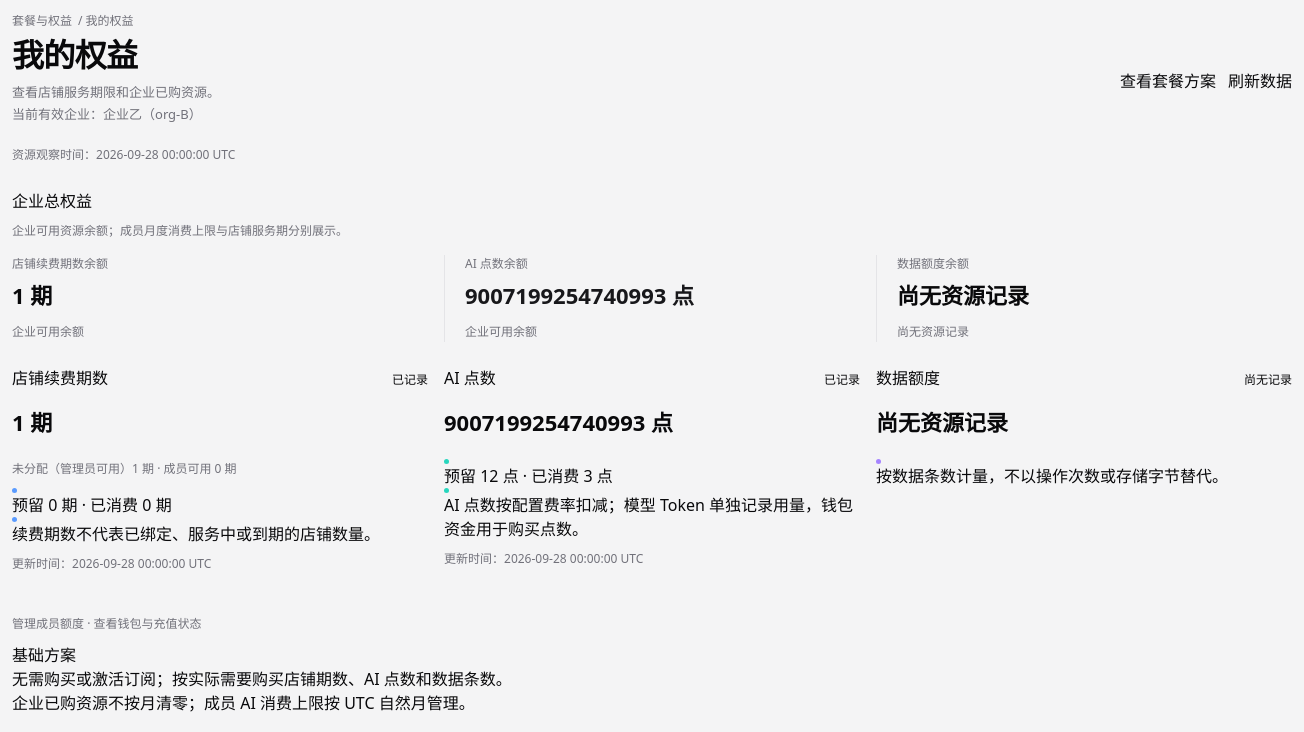
Test: hides prior success on refresh and displays safe PERMISSION_DENIED without fallback
Click the button "刷新数据": (1260, 81) [1228,69,1292,93]
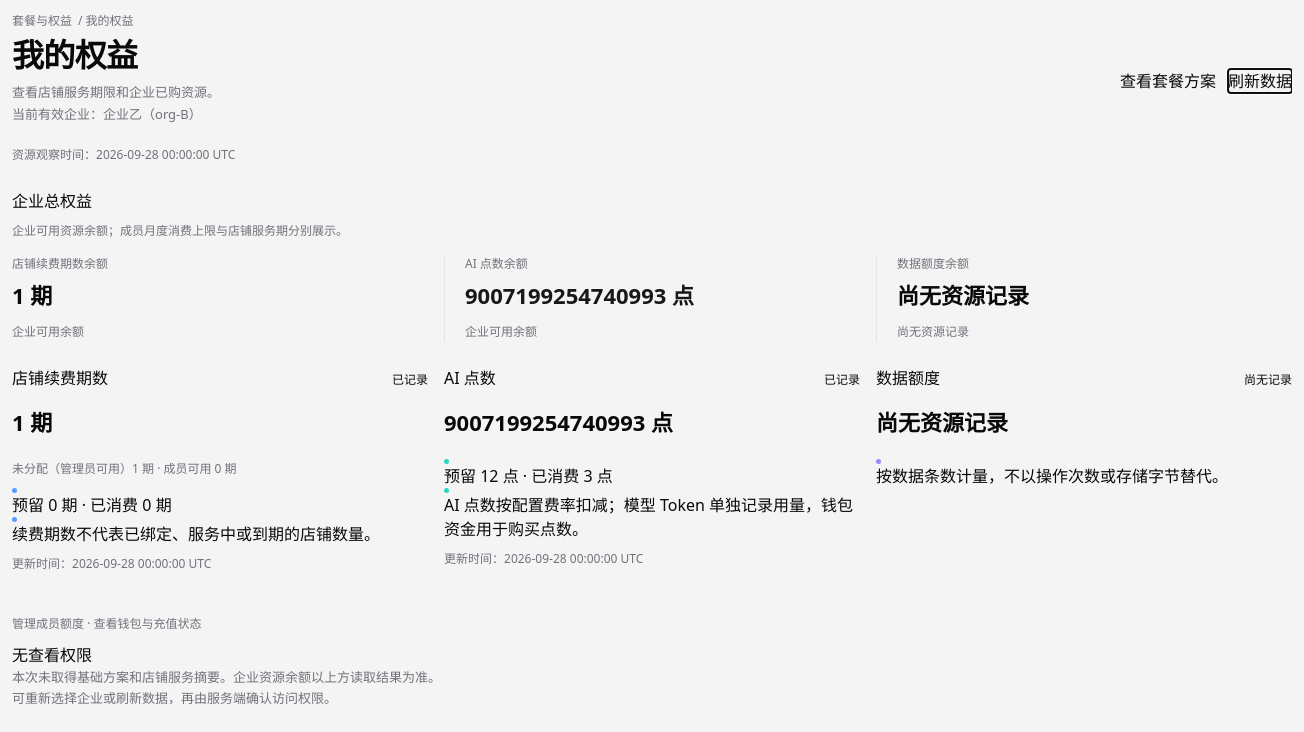
Expected: the message shows "无查看权限", [12,644,92,666]
